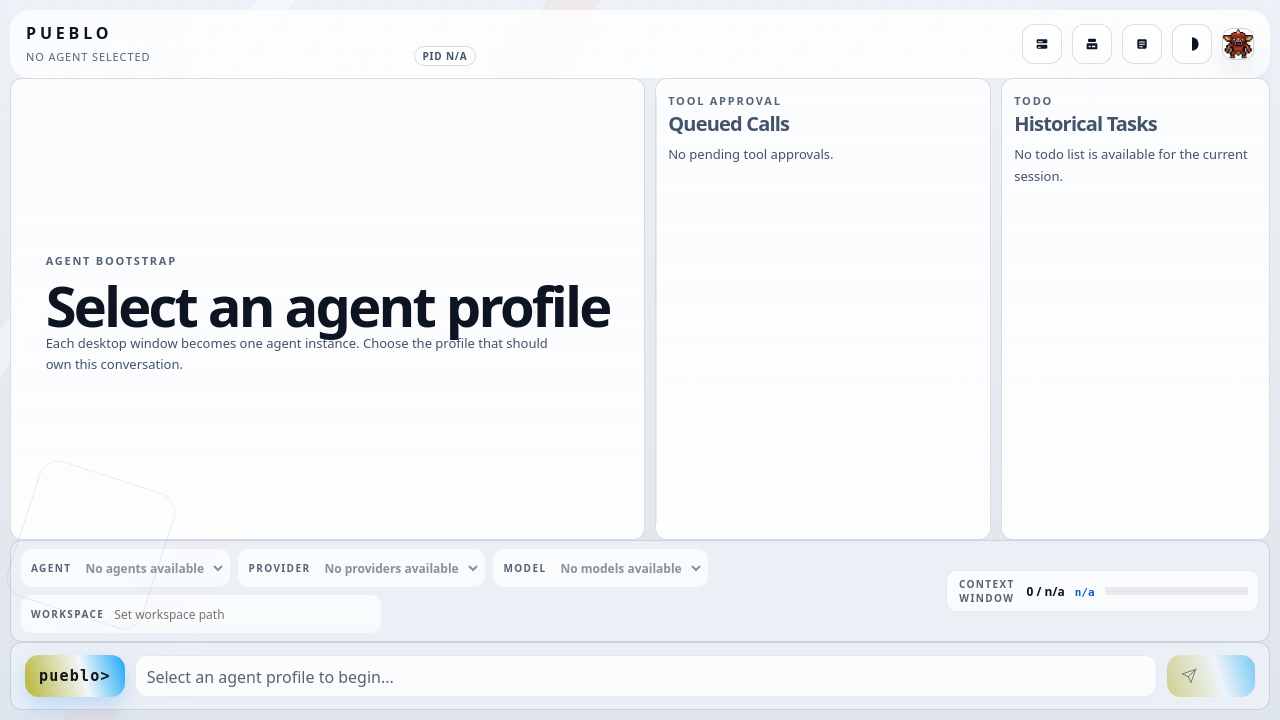
Test: Desktop Renderer › shows agent sessions on the right and opens a memory dialog on double click
Click the button named "Show session sidebar" at {"x": 1042, "y": 44}, box [1022,24,1062,64]
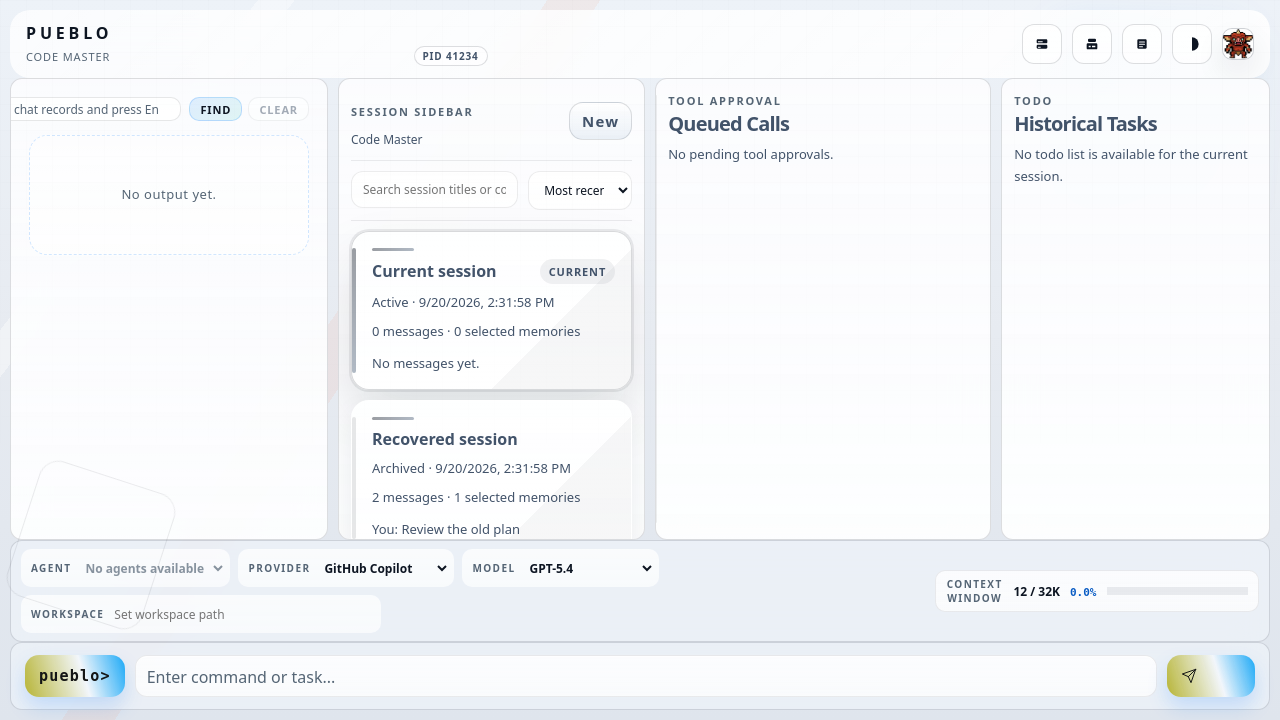
Expected: the heading "Recovered session" is shown
Double-click the heading "Recovered session" at {"x": 445, "y": 439}, box [372,428,518,450]
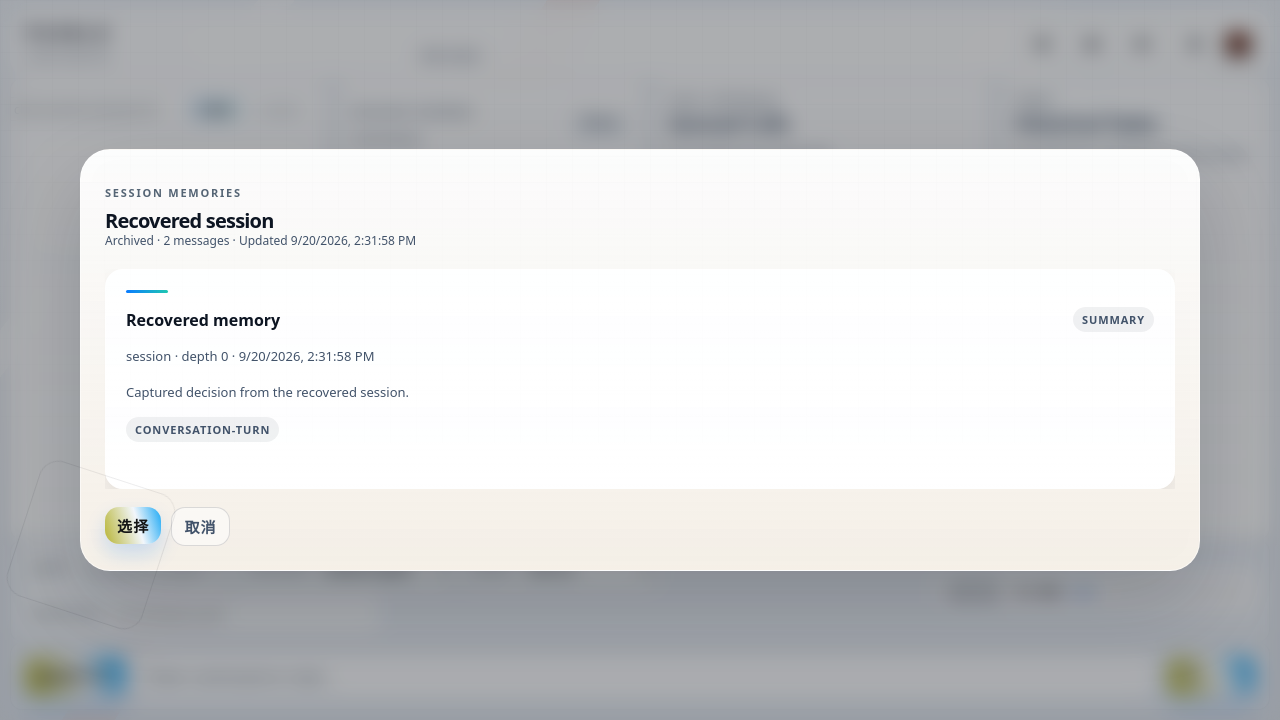
Expected: the dialog named "session-memory-dialog" is shown
Expected: the heading "Recovered memory" is shown, [126,309,280,331]
Click the button "选择" at {"x": 133, "y": 526}, box [105,507,161,544]
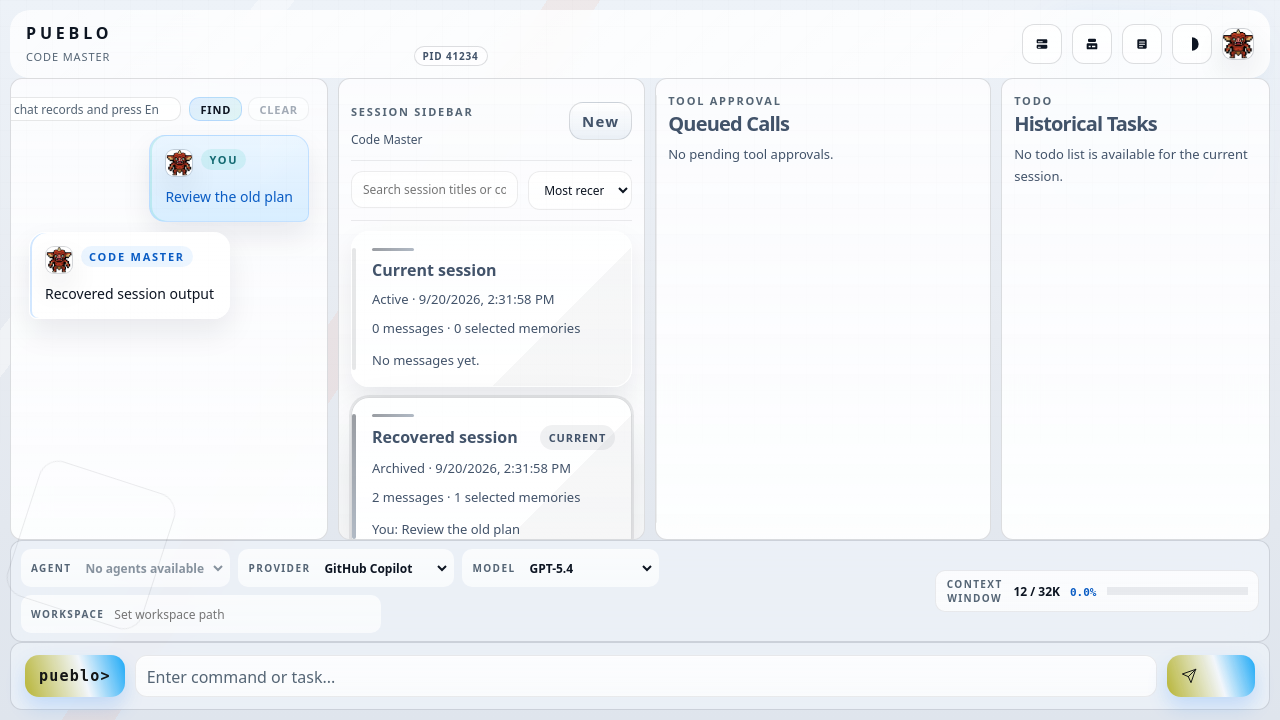
Expected: the text "Recovered session output" is shown, [45,282,214,305]
